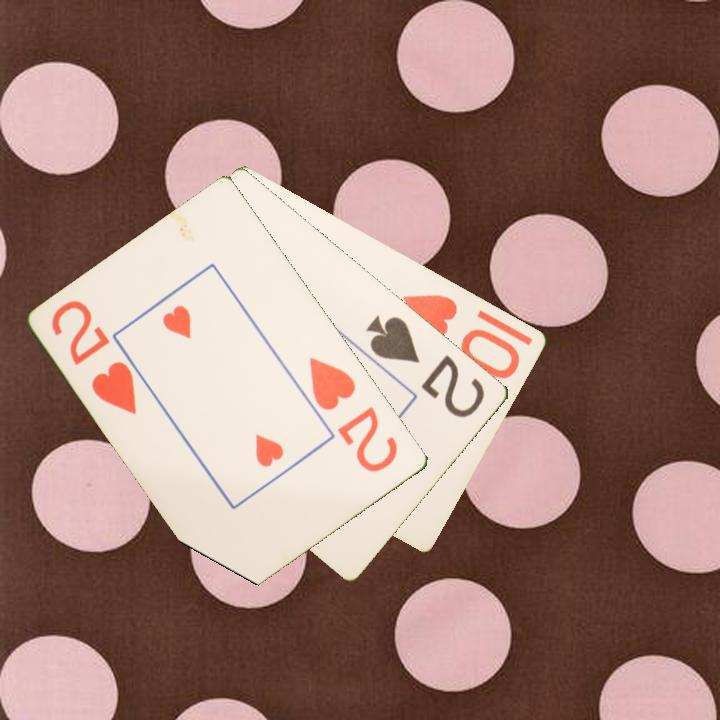10h: (399, 290, 524, 382)
2h: (306, 353, 402, 476), (48, 296, 141, 418)
2s: (362, 311, 489, 421)
